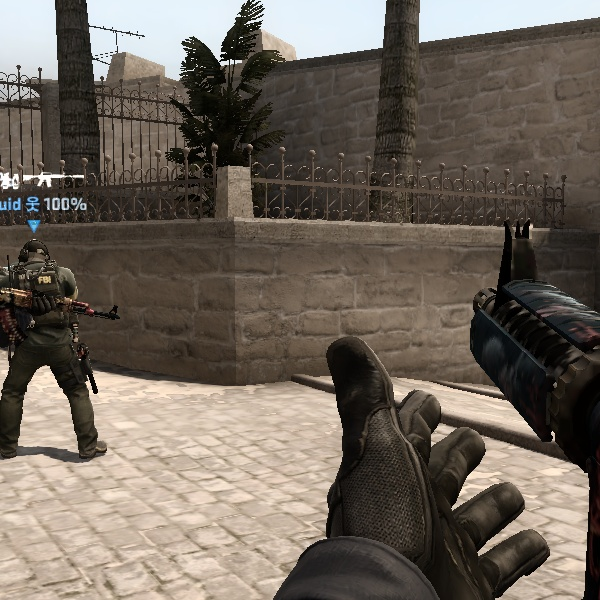ct_body: (2, 231, 112, 458)
ct_head: (9, 233, 57, 281)
